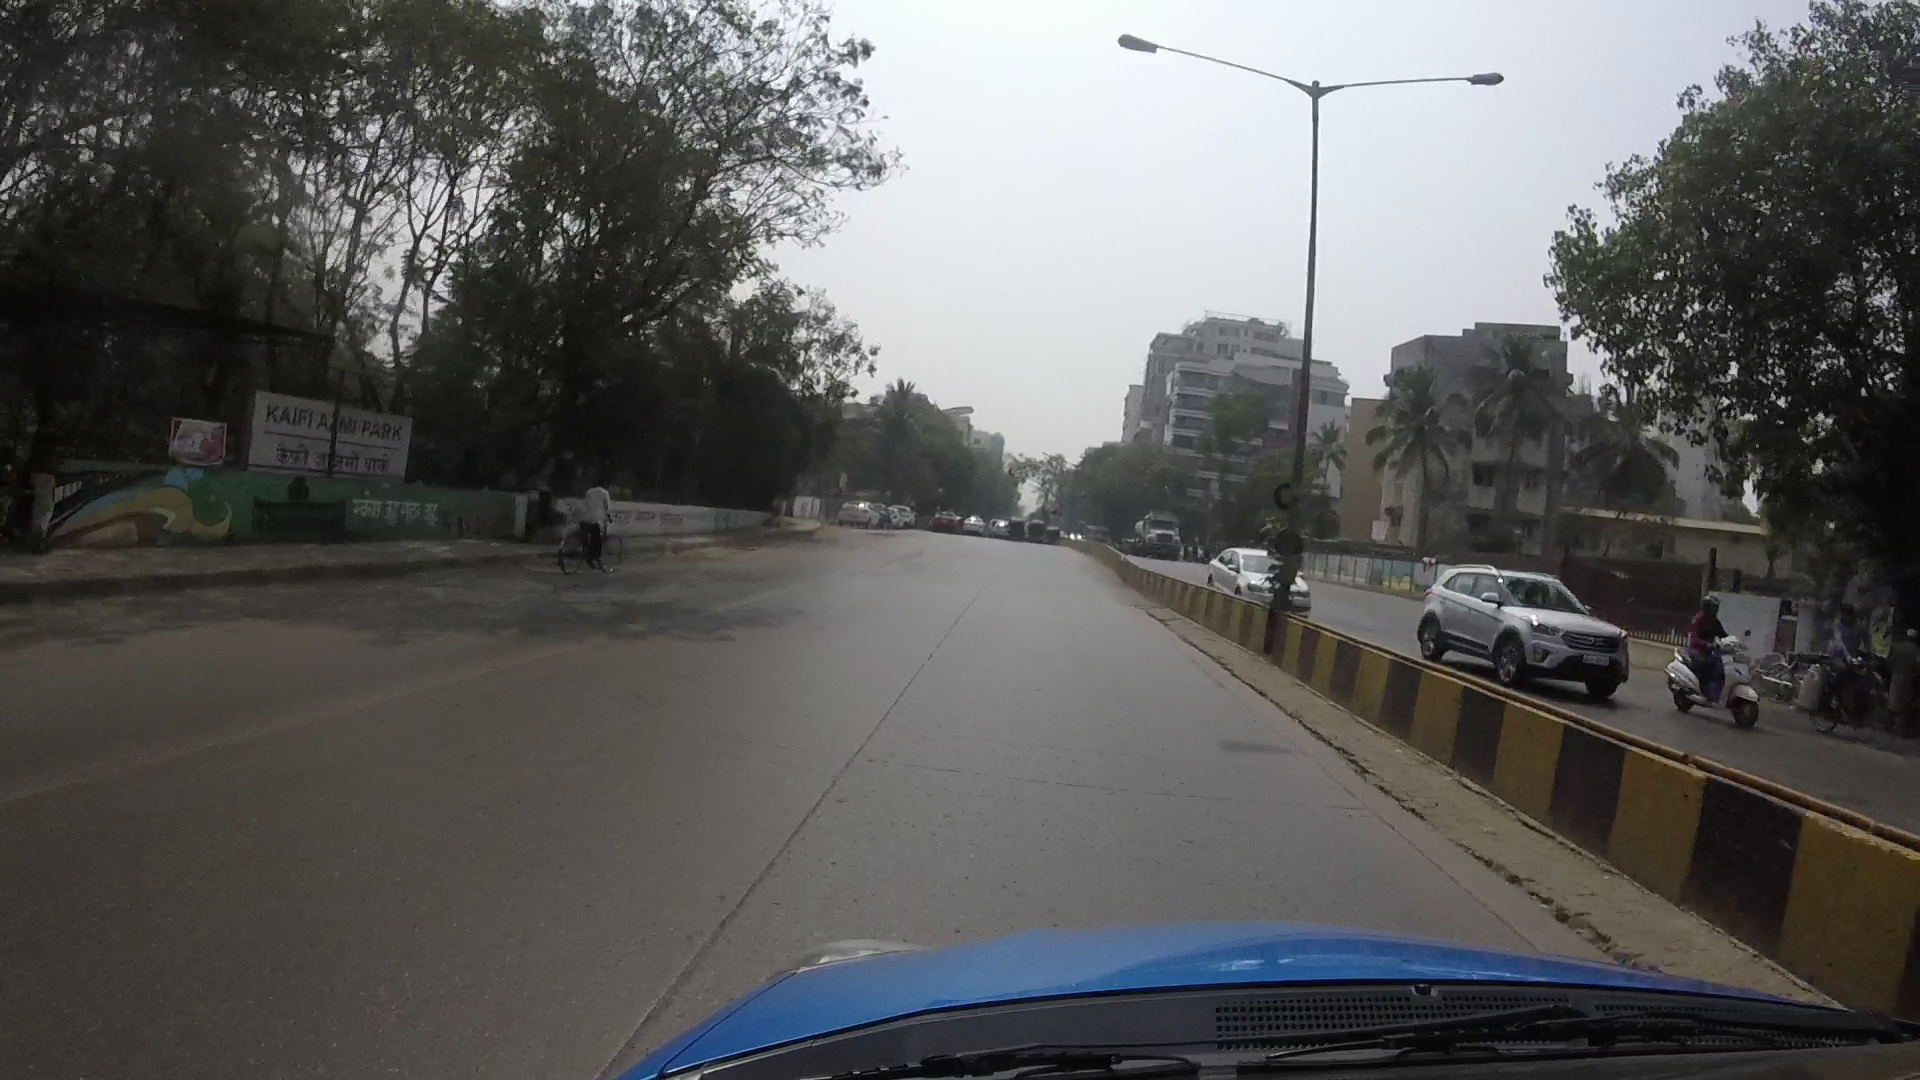bike/scooter: (1659, 589, 1775, 733)
car: (1396, 529, 1643, 717), (1195, 527, 1321, 622)
